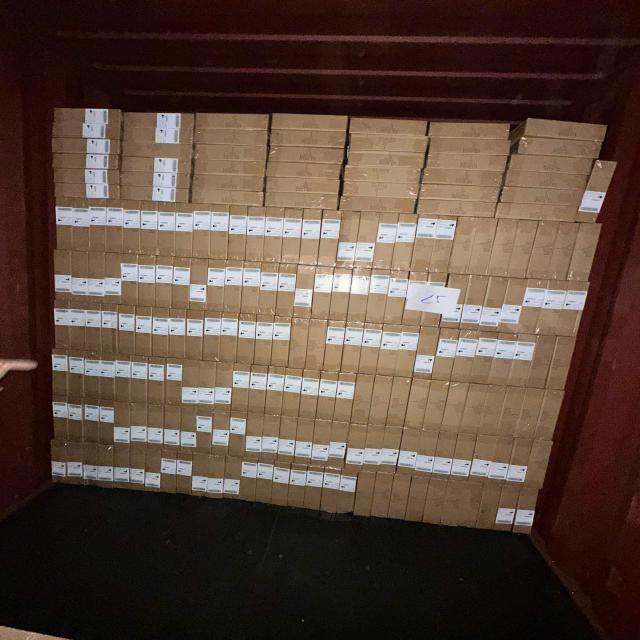Carton: (573, 160, 621, 223), (520, 116, 610, 144), (566, 223, 603, 282), (546, 222, 583, 281), (518, 136, 606, 160), (507, 220, 542, 277), (526, 222, 560, 280), (501, 184, 585, 207), (514, 278, 548, 334), (554, 282, 588, 337), (534, 281, 569, 334), (508, 154, 592, 176), (364, 426, 402, 474), (503, 170, 589, 191), (486, 220, 517, 278), (466, 217, 496, 276), (430, 135, 513, 156), (488, 333, 520, 387), (446, 218, 476, 275), (408, 215, 439, 270), (348, 117, 429, 138), (468, 331, 500, 384), (533, 390, 566, 441), (477, 278, 508, 332), (506, 334, 538, 386), (495, 386, 527, 438), (546, 336, 577, 389), (271, 112, 349, 133), (427, 120, 513, 139), (429, 216, 458, 272), (526, 336, 557, 388), (523, 440, 554, 491), (390, 214, 417, 272), (477, 386, 507, 438), (504, 438, 535, 488), (494, 204, 580, 222), (372, 212, 398, 271), (264, 190, 340, 210), (348, 134, 428, 153), (336, 194, 416, 213), (432, 328, 460, 382), (458, 277, 486, 331), (418, 184, 502, 202), (421, 272, 448, 327), (267, 145, 345, 164), (415, 199, 497, 217), (514, 389, 544, 438), (485, 437, 515, 486), (342, 180, 419, 199), (346, 150, 427, 168), (427, 153, 508, 171), (352, 214, 378, 270), (430, 431, 459, 481), (122, 110, 194, 130), (493, 485, 523, 533), (510, 486, 540, 534), (439, 274, 465, 329), (194, 112, 269, 131), (452, 330, 478, 384), (460, 384, 487, 436), (268, 130, 346, 148), (442, 384, 470, 434), (299, 210, 323, 268), (120, 170, 193, 189), (264, 177, 341, 195), (467, 434, 495, 483), (500, 277, 524, 334), (193, 128, 269, 146), (421, 168, 506, 184), (414, 327, 439, 381), (193, 144, 268, 162), (450, 433, 478, 481), (343, 166, 422, 183), (192, 174, 266, 192), (190, 188, 264, 206), (120, 184, 190, 203), (52, 181, 121, 200), (405, 272, 429, 326), (221, 456, 248, 504), (120, 156, 192, 174), (412, 430, 439, 478), (52, 167, 120, 186), (265, 161, 341, 178), (395, 427, 421, 476), (440, 480, 467, 527), (336, 214, 359, 269), (51, 137, 121, 155), (192, 159, 266, 176), (264, 208, 286, 265), (395, 326, 419, 378), (365, 269, 388, 323), (384, 270, 407, 324), (422, 478, 449, 524), (475, 483, 502, 529), (280, 210, 302, 266), (318, 212, 340, 268), (424, 379, 448, 430), (121, 142, 193, 159), (330, 268, 353, 321), (123, 127, 194, 144), (343, 424, 368, 472), (379, 326, 402, 378), (459, 481, 484, 528), (51, 153, 119, 170), (360, 426, 384, 474), (351, 374, 374, 424), (387, 474, 412, 520), (325, 323, 347, 375), (359, 324, 381, 376), (342, 324, 364, 376), (50, 124, 121, 140), (276, 264, 297, 318), (327, 423, 351, 470), (352, 472, 377, 517), (405, 476, 430, 521), (348, 270, 370, 321), (245, 208, 265, 264), (210, 202, 230, 258), (312, 267, 333, 320), (300, 371, 322, 421), (316, 372, 338, 422), (140, 201, 160, 256), (336, 372, 358, 422), (371, 376, 393, 426), (306, 321, 328, 371), (108, 199, 128, 254), (87, 198, 107, 253), (408, 378, 430, 428), (103, 252, 124, 304), (310, 422, 333, 469), (320, 467, 343, 514), (229, 207, 248, 263), (295, 266, 315, 319), (206, 260, 226, 313), (336, 469, 359, 515), (292, 418, 314, 466), (389, 378, 410, 428), (188, 260, 208, 312), (266, 364, 286, 416), (54, 197, 74, 249), (270, 461, 292, 508), (286, 464, 308, 511), (159, 202, 178, 256), (175, 205, 194, 259), (237, 314, 257, 365), (221, 313, 241, 364), (304, 467, 326, 513), (243, 412, 265, 458), (165, 359, 186, 407), (124, 199, 142, 255), (194, 205, 212, 261), (254, 460, 275, 508), (370, 474, 394, 516), (225, 260, 244, 313), (242, 262, 261, 315), (172, 259, 191, 312), (288, 320, 308, 370), (272, 317, 292, 367), (282, 369, 302, 419), (150, 307, 170, 357), (52, 348, 72, 398), (52, 300, 72, 350), (192, 409, 214, 454), (153, 258, 172, 310), (260, 263, 279, 315), (121, 255, 140, 307), (85, 250, 104, 302), (67, 350, 87, 399), (53, 248, 71, 302), (203, 313, 222, 364), (72, 196, 89, 253), (238, 458, 260, 502), (53, 109, 122, 123), (260, 414, 280, 462), (185, 310, 204, 360), (254, 317, 273, 367), (249, 365, 268, 415), (169, 308, 188, 358), (233, 364, 252, 414), (198, 361, 217, 411), (178, 406, 198, 453), (135, 306, 153, 358), (138, 256, 156, 308), (214, 362, 233, 411), (113, 355, 132, 404), (277, 418, 297, 464), (228, 412, 248, 458), (84, 301, 102, 352), (83, 350, 101, 401), (147, 358, 166, 406), (131, 357, 150, 405), (70, 249, 87, 302), (69, 299, 86, 352), (119, 306, 137, 356), (101, 305, 119, 355), (181, 358, 199, 407), (212, 410, 231, 456), (164, 405, 182, 453), (146, 404, 165, 449), (174, 450, 193, 495), (98, 351, 115, 401), (130, 403, 148, 450), (207, 455, 226, 499), (111, 446, 130, 489), (114, 402, 131, 449), (98, 400, 115, 447), (65, 442, 83, 486), (96, 445, 114, 489), (128, 446, 146, 490), (82, 398, 99, 444), (50, 439, 67, 485), (145, 446, 162, 492), (191, 452, 208, 497), (53, 395, 69, 442), (68, 397, 84, 443), (81, 443, 98, 486), (161, 449, 177, 493)
